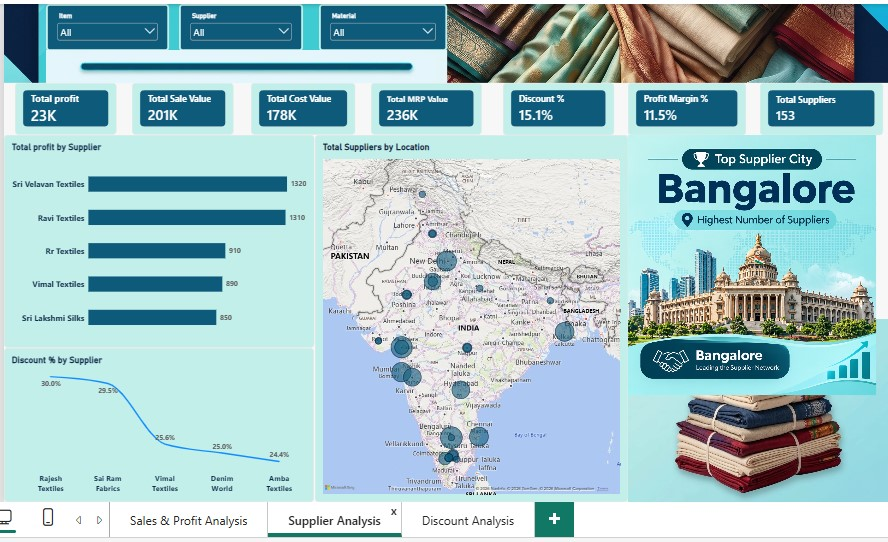

This screenshot's page, from the dashboard's own definition file:
{"tool":"powerbi","page":{"name":"Supplier Analysis","canvas":[1920,1080],"ordinal":1},"visuals":[{"type":"image","box":[0,0,1919.3,171.3],"z":0},{"type":"cardVisual","fields":{"Data":["KPIs.Total profit"]},"box":[23.9,171.3,220,112],"z":1000},{"type":"cardVisual","fields":{"Data":["KPIs.Total Sale Value"]},"box":[277.6,171.3,220,112],"z":2000},{"type":"cardVisual","fields":{"Data":["KPIs.Total Cost Value"]},"box":[535.7,171.3,226,112],"z":3000},{"type":"cardVisual","fields":{"Data":["KPIs.Discount %"]},"box":[1082.2,171.3,240.7,112.8],"z":4000},{"type":"cardVisual","fields":{"Data":["KPIs.Total MRP Value"]},"box":[795.9,171.3,240,112],"z":5000},{"type":"cardVisual","fields":{"Data":["KPIs.Profit Margin %"]},"box":[1353.3,171.3,255.9,112.8],"z":6000},{"type":"cardVisual","fields":{"Data":["KPIs.Total Suppliers"]},"box":[1639.5,171.3,266.7,112.8],"z":7000},{"type":"clusteredBarChart","fields":{"Category":["Textile_data2 txt.Supplier"],"Y":["KPIs.Total profit"]},"box":[0,284.7,672.8,461.1],"z":8000},{"type":"lineChart","fields":{"Category":["Textile_data2 txt.Supplier"],"Y":["KPIs.Discount %"]},"box":[0,746,672.3,334],"z":9000},{"type":"map","fields":{"Category":["Textile_data2 txt.Location"],"Size":["KPIs.Total Suppliers"]},"box":[674.5,284.1,678.8,795.9],"z":10000},{"type":"image","box":[1353.3,683.1,566,396.9],"z":10001},{"type":"image","box":[1353.3,284.1,537.8,563.9],"z":10002},{"type":"slicer","fields":{"Values":["Textile_data2 txt.Item"]},"box":[91.1,0,266.7,101.9],"z":10003},{"type":"slicer","fields":{"Values":["Textile_data2 txt.Material"]},"box":[683.1,0,277.6,101.9],"z":10004},{"type":"slicer","fields":{"Values":["Textile_data2 txt.Supplier"]},"box":[379.5,0,268.9,101.9],"z":10005},{"type":"image","box":[91.1,99.8,869.6,71.6],"z":10006}]}

Visuals, with their boxes on the page's 1920x1080 design canvas (x1, y1, x2, y2). These are canvas units, not pixel positions in the 888x542 screenshot, which may show the page scaled, cropped or inside an application window:
image: <bbox>0, 0, 1919, 171</bbox>
cardVisual - KPIs.Total profit: <bbox>24, 171, 244, 283</bbox>
cardVisual - KPIs.Total Sale Value: <bbox>278, 171, 498, 283</bbox>
cardVisual - KPIs.Total Cost Value: <bbox>536, 171, 762, 283</bbox>
cardVisual - KPIs.Discount %: <bbox>1082, 171, 1323, 284</bbox>
cardVisual - KPIs.Total MRP Value: <bbox>796, 171, 1036, 283</bbox>
cardVisual - KPIs.Profit Margin %: <bbox>1353, 171, 1609, 284</bbox>
cardVisual - KPIs.Total Suppliers: <bbox>1640, 171, 1906, 284</bbox>
clusteredBarChart - Textile_data2 txt.Supplier x KPIs.Total profit: <bbox>0, 285, 673, 746</bbox>
lineChart - Textile_data2 txt.Supplier x KPIs.Discount %: <bbox>0, 746, 672, 1080</bbox>
map - Textile_data2 txt.Location x KPIs.Total Suppliers: <bbox>674, 284, 1353, 1080</bbox>
image: <bbox>1353, 683, 1919, 1080</bbox>
image: <bbox>1353, 284, 1891, 848</bbox>
slicer - Textile_data2 txt.Item: <bbox>91, 0, 358, 102</bbox>
slicer - Textile_data2 txt.Material: <bbox>683, 0, 961, 102</bbox>
slicer - Textile_data2 txt.Supplier: <bbox>380, 0, 648, 102</bbox>
image: <bbox>91, 100, 961, 171</bbox>
